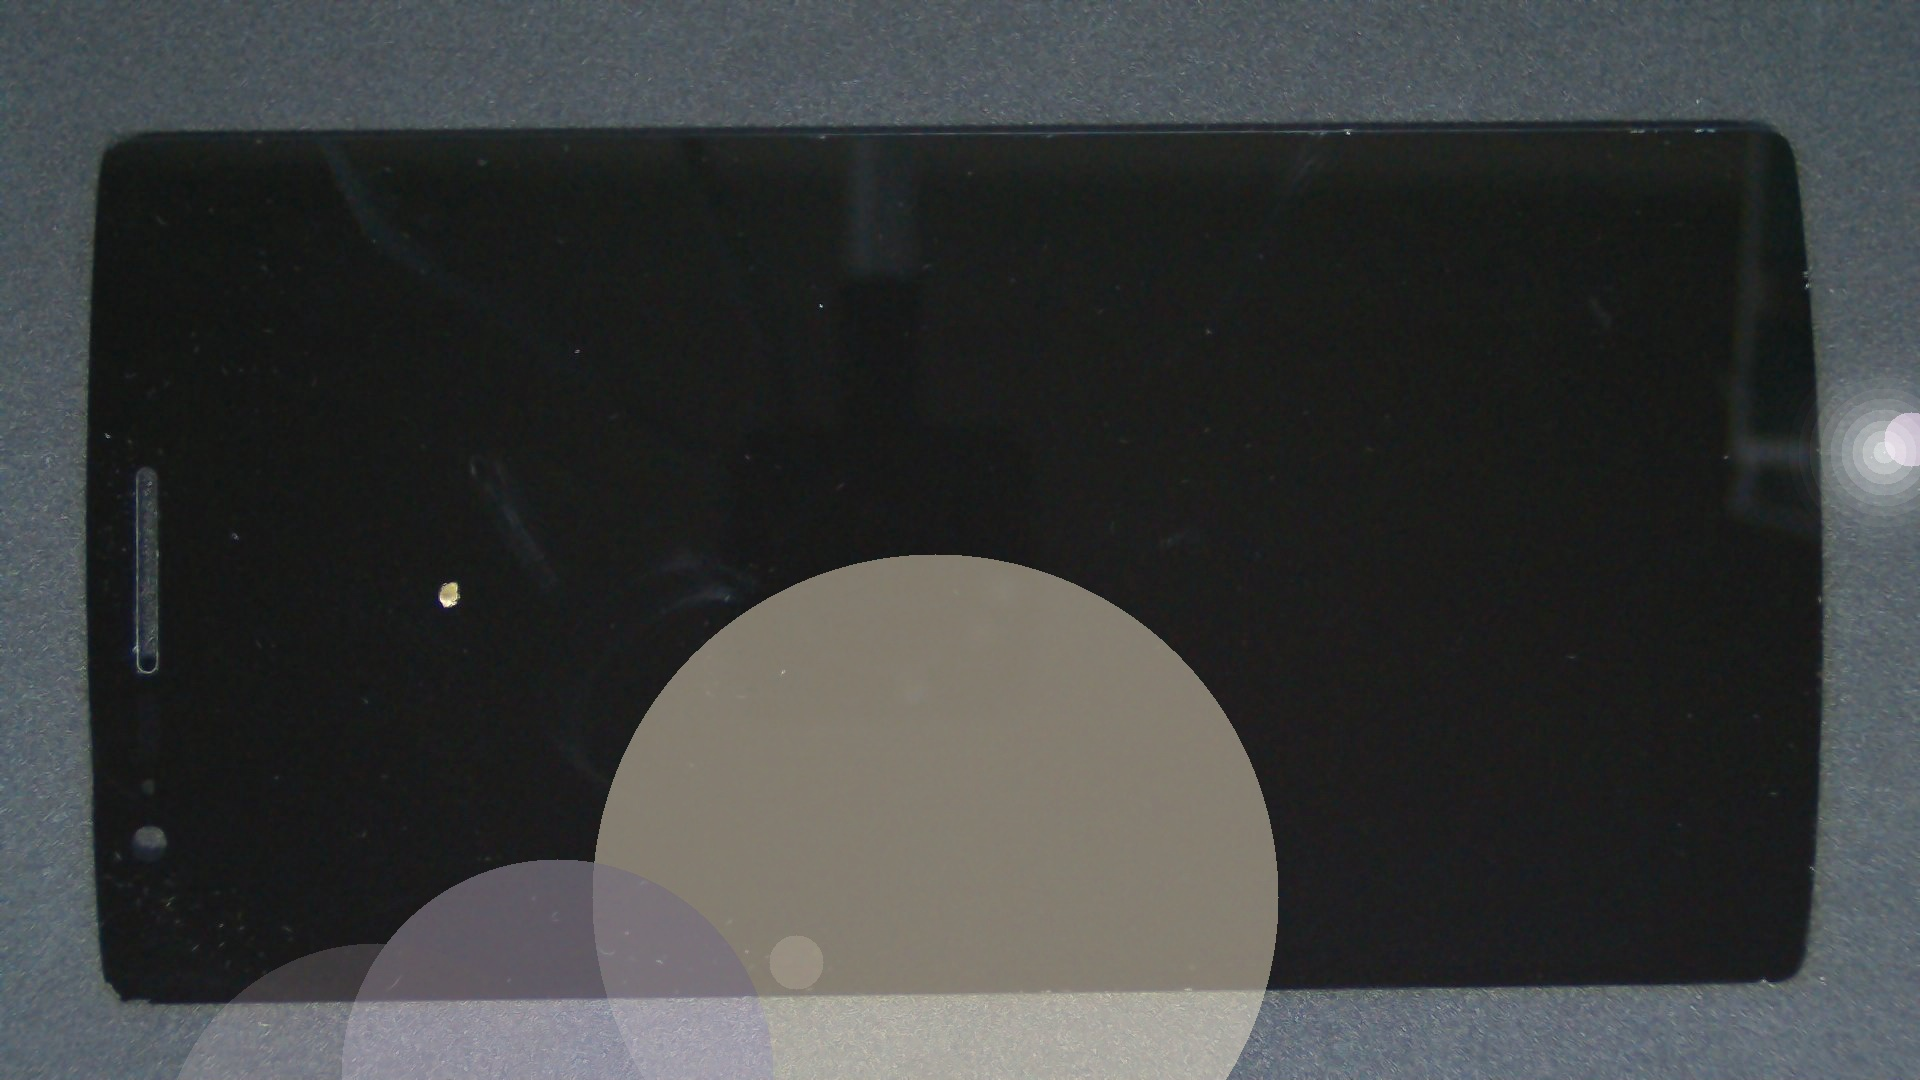oil: (227, 289, 678, 869)
